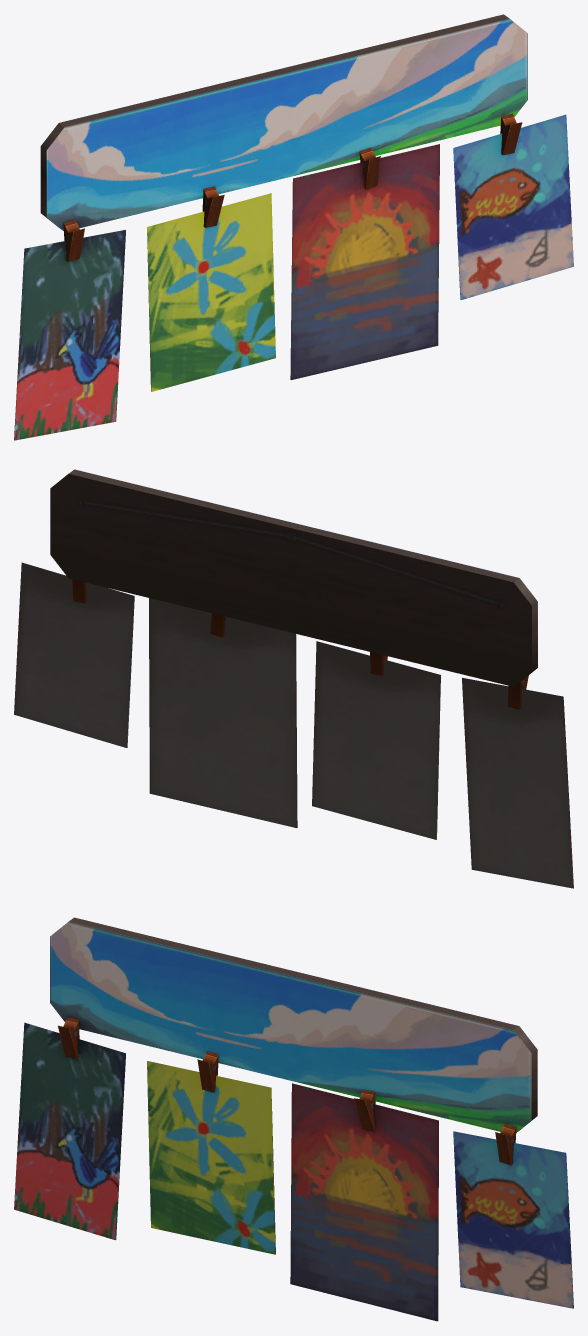
Rendered from decoracionCama.fbx.
The picture shows the model from 3 angles, top to bottom: view 1: azimuth 30°, elevation 25°; view 2: azimuth 150°, elevation 25°; view 3: azimuth 330°, elevation 25°; orthographic projection.
Parts seen in each view (by area): view 1: deco; view 2: deco; view 3: deco.
Boxes of the visible parts, <box> form: deco: <box>14,14,573,440</box>; deco: <box>14,469,573,888</box>; deco: <box>14,917,573,1321</box>.
Bounding box in the file's own units: 152 × 79.79 × 7.39.
Materials: 1 (1 with a texture image).
